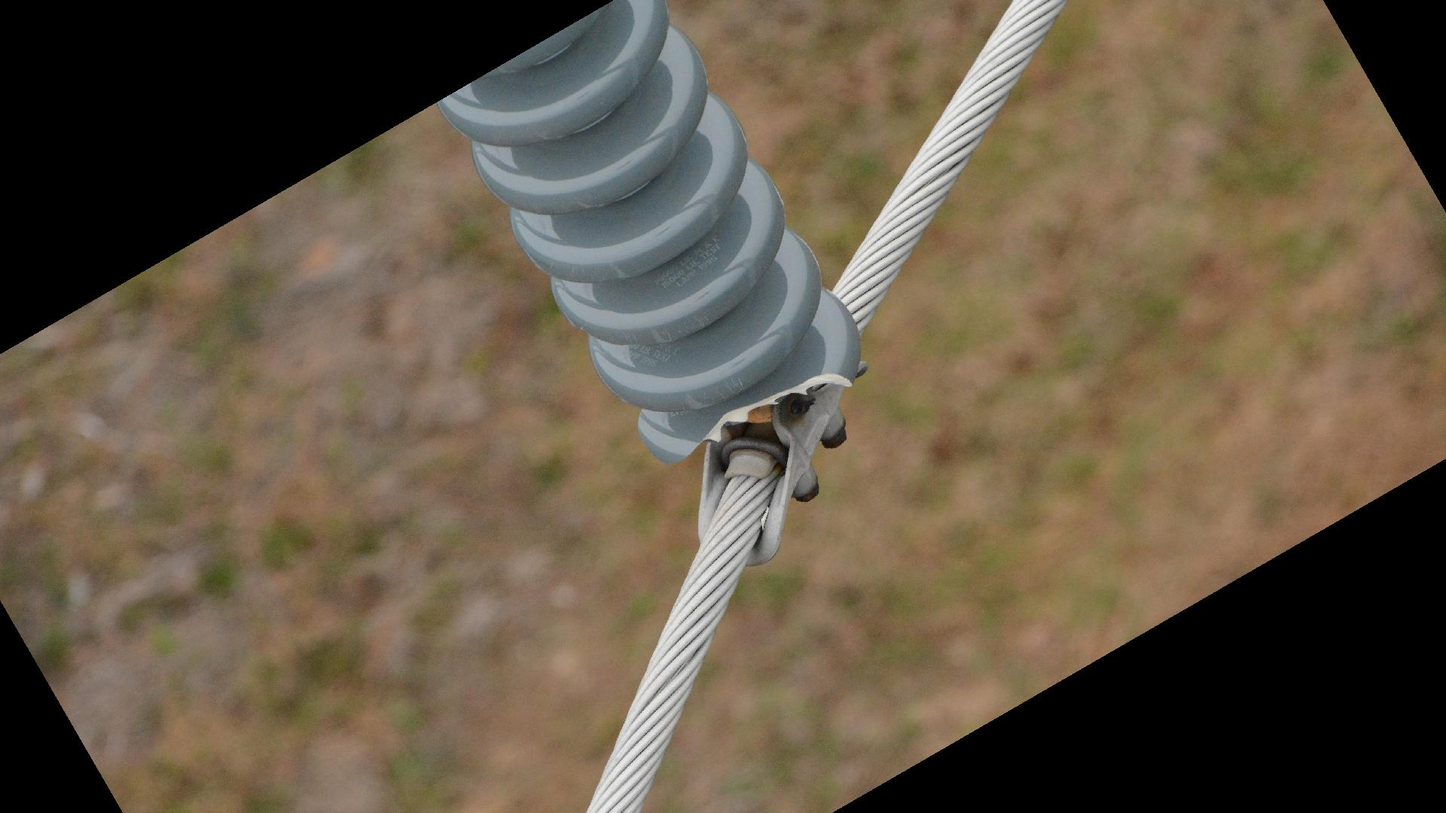insulator: (427, 1, 869, 476)
insulator_breakage: (664, 369, 859, 471)
